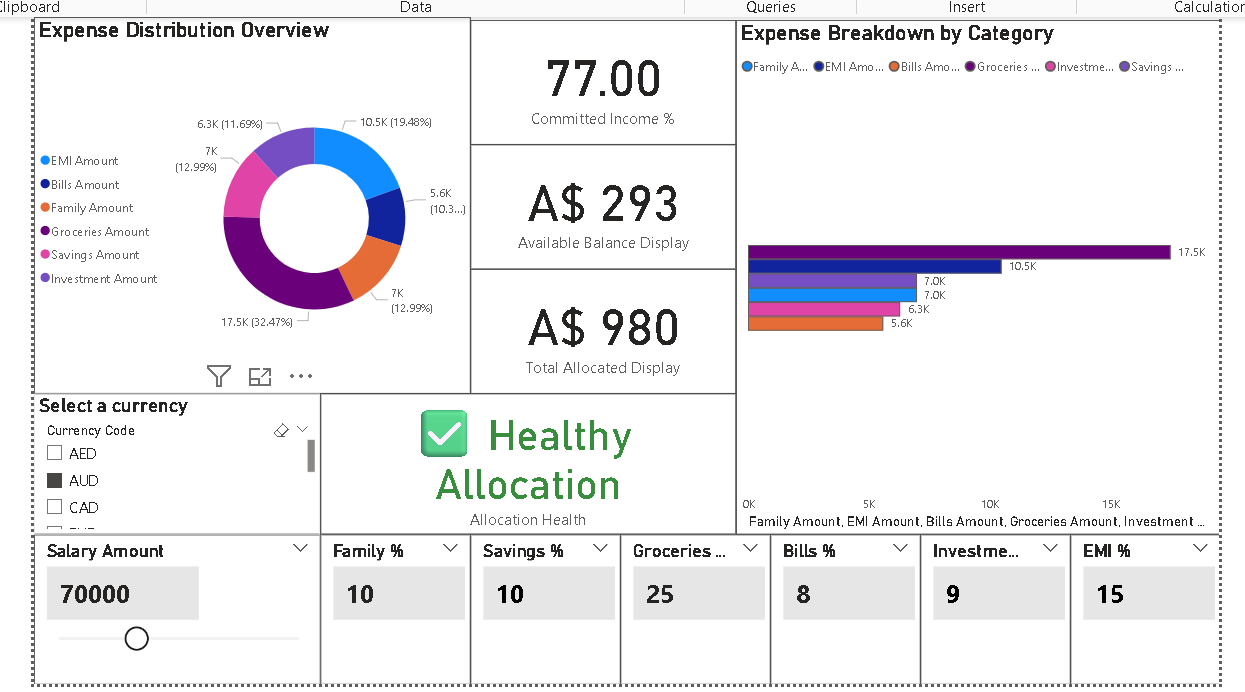

This screenshot's page, from the dashboard's own definition file:
{"tool":"powerbi","page":{"name":"Page 1","canvas":[1280,720],"ordinal":0},"visuals":[{"type":"slicer","title":"EMI%","fields":{"Values":["EMI %.EMI %"]},"box":[1118.9,558.6,161.9,161.9],"z":0},{"type":"slicer","fields":{"Values":["Savings %.Savings %"]},"box":[471.2,558.6,161.9,161.9],"z":1000},{"type":"slicer","fields":{"Values":["Investment %.Investment %"]},"box":[957,558.6,161.9,161.9],"z":2000},{"type":"slicer","fields":{"Values":["Groceries %.Groceries %"]},"box":[633.1,558.6,161.9,161.9],"z":3000},{"type":"slicer","fields":{"Values":["Bills %.Bills %"]},"box":[795,558.6,161.9,161.9],"z":4000},{"type":"slicer","fields":{"Values":["Family %.Family %"]},"box":[309.3,558.6,161.9,161.9],"z":5000},{"type":"slicer","fields":{"Values":["Salary Amount.Salary Amount"]},"box":[0,558.6,309.3,161.9],"z":6000},{"type":"card","fields":{"Values":["Currency.Committed Income %"]},"box":[471.2,3.2,286.6,134.4],"z":7000},{"type":"donutChart","title":"Expense Distribution Overview","fields":{"Y":["EMI %.EMI Amount","Bills %.Bills Amount","Family %.Family Amount","Groceries %.Groceries Amount","Salary Amount.Savings Amount","Investment %.Investment Amount"]},"box":[0,0,471.2,406.4],"z":9000},{"type":"clusteredBarChart","title":"Expense Breakdown by Category","fields":{"Y":["Family %.Family Amount","EMI %.EMI Amount","Bills %.Bills Amount","Groceries %.Groceries Amount","Investment %.Investment Amount","Salary Amount.Savings Amount"]},"box":[757.8,3.2,523,555.4],"z":10000},{"type":"slicer","title":"Select a currency","fields":{"Values":["Table.Currency Code Currency Name     | RateToINR | Symbol |"]},"box":[0,406.4,309.3,152.2],"z":10001},{"type":"card","fields":{"Values":["Currency.Total Allocated Display"]},"box":[471.2,272,286.6,134.4],"z":10002},{"type":"card","fields":{"Values":["Currency.Available Balance Display"]},"box":[471.2,137.6,286.6,134.4],"z":10003},{"type":"card","fields":{"Values":["Currency.Allocation Health"]},"box":[309.3,406.4,448.5,152.2],"z":10004}]}

Visuals, with their boxes on the page's 1280x720 design canvas (x1, y1, x2, y2). These are canvas units, not pixel positions in the 1245x692 screenshot, which may show the page scaled, cropped or inside an application window:
"EMI%" slicer: <bbox>1119, 559, 1281, 720</bbox>
slicer - Savings %.Savings %: <bbox>471, 559, 633, 720</bbox>
slicer - Investment %.Investment %: <bbox>957, 559, 1119, 720</bbox>
slicer - Groceries %.Groceries %: <bbox>633, 559, 795, 720</bbox>
slicer - Bills %.Bills %: <bbox>795, 559, 957, 720</bbox>
slicer - Family %.Family %: <bbox>309, 559, 471, 720</bbox>
slicer - Salary Amount.Salary Amount: <bbox>0, 559, 309, 720</bbox>
card - Currency.Committed Income %: <bbox>471, 3, 758, 138</bbox>
"Expense Distribution Overview" donutChart: <bbox>0, 0, 471, 406</bbox>
"Expense Breakdown by Category" clusteredBarChart: <bbox>758, 3, 1281, 559</bbox>
"Select a currency" slicer: <bbox>0, 406, 309, 559</bbox>
card - Currency.Total Allocated Display: <bbox>471, 272, 758, 406</bbox>
card - Currency.Available Balance Display: <bbox>471, 138, 758, 272</bbox>
card - Currency.Allocation Health: <bbox>309, 406, 758, 559</bbox>
